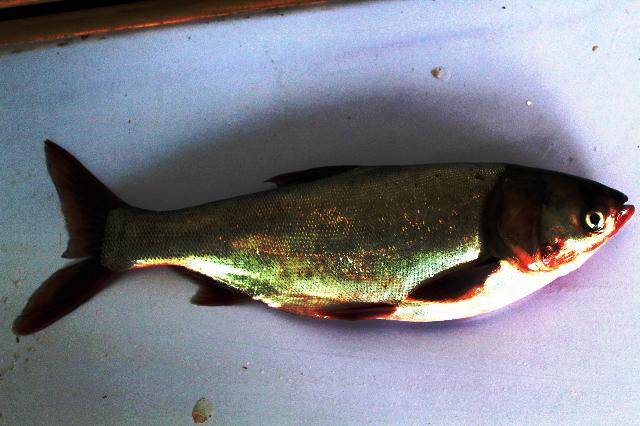Healthy Fish: (15, 142, 634, 335)
